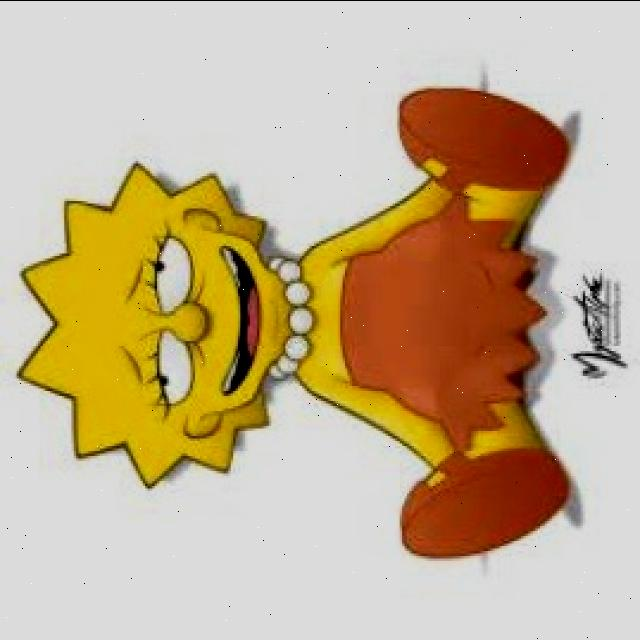Lisa Simpson: (13, 154, 320, 492)
